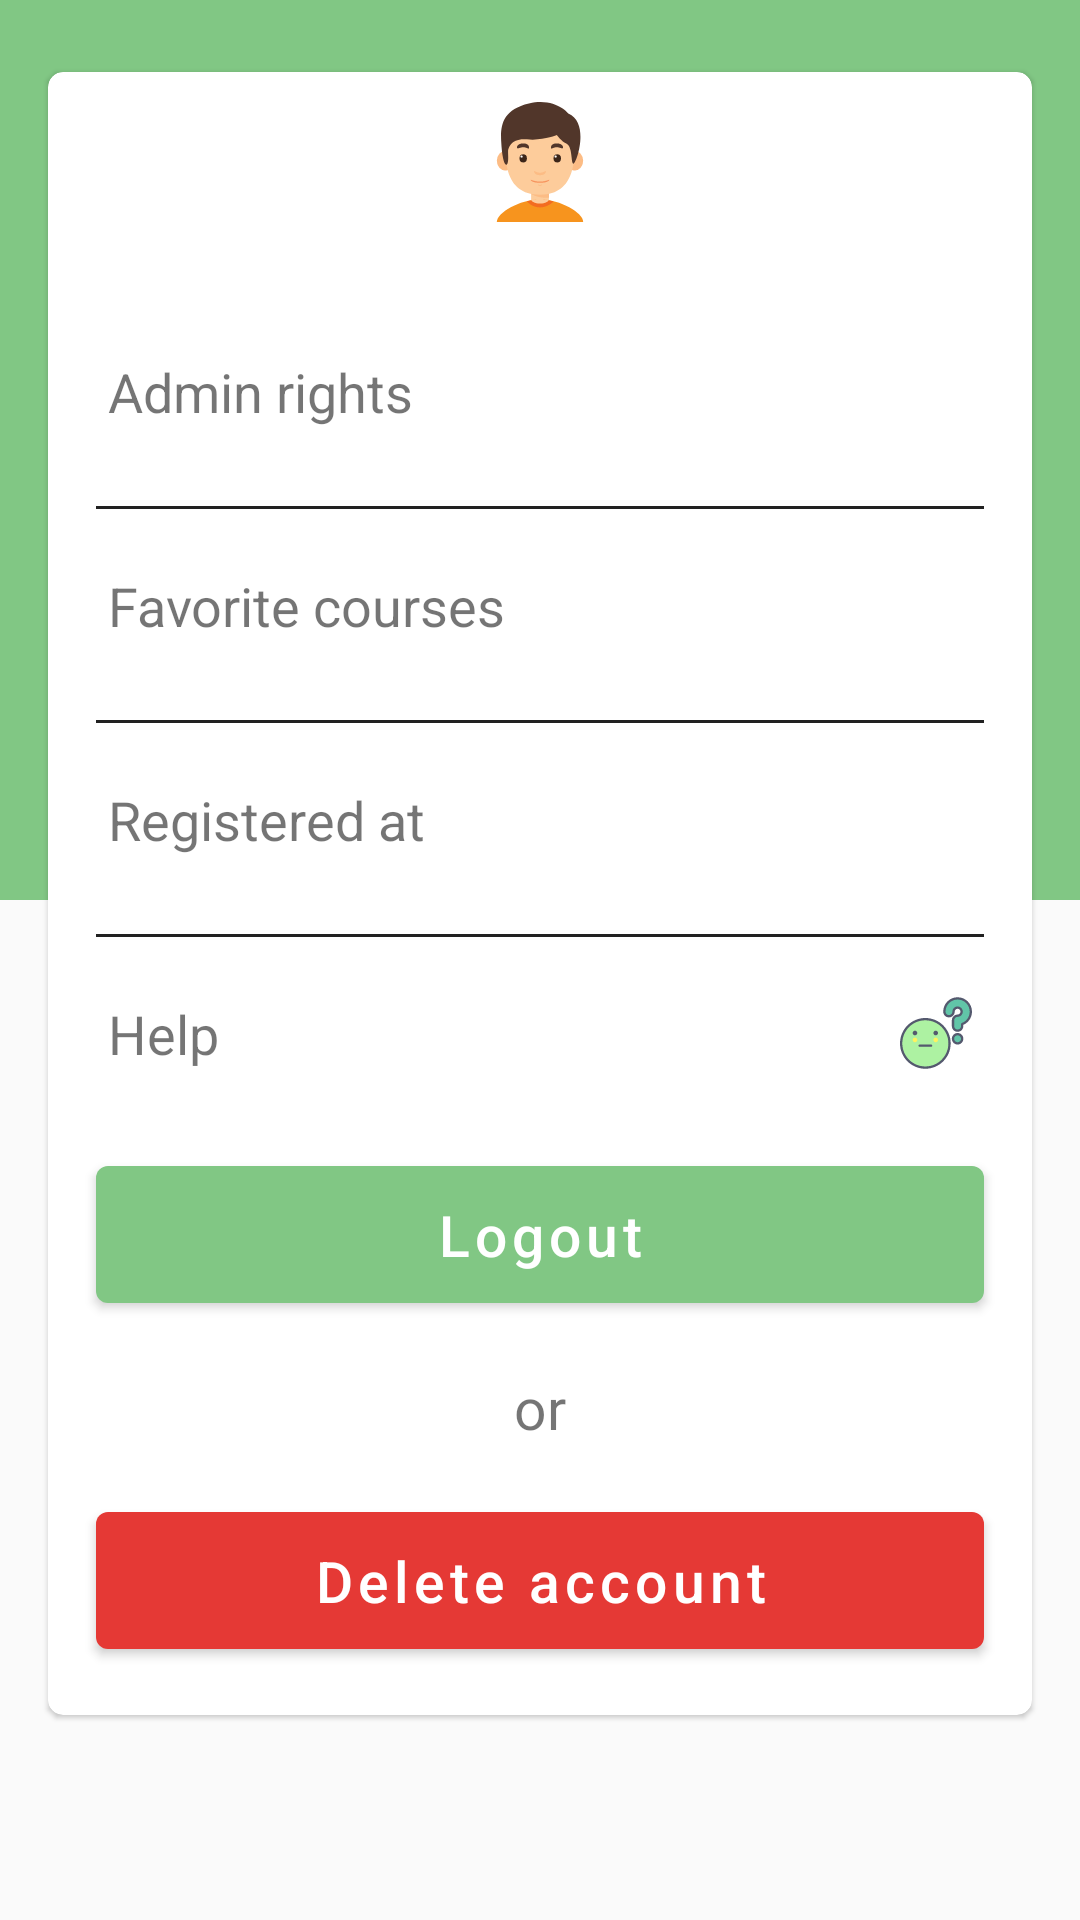

Point at icon controls on the screen. Image size 1080 × 1920, points as (x,y).
boy: (539,162)
